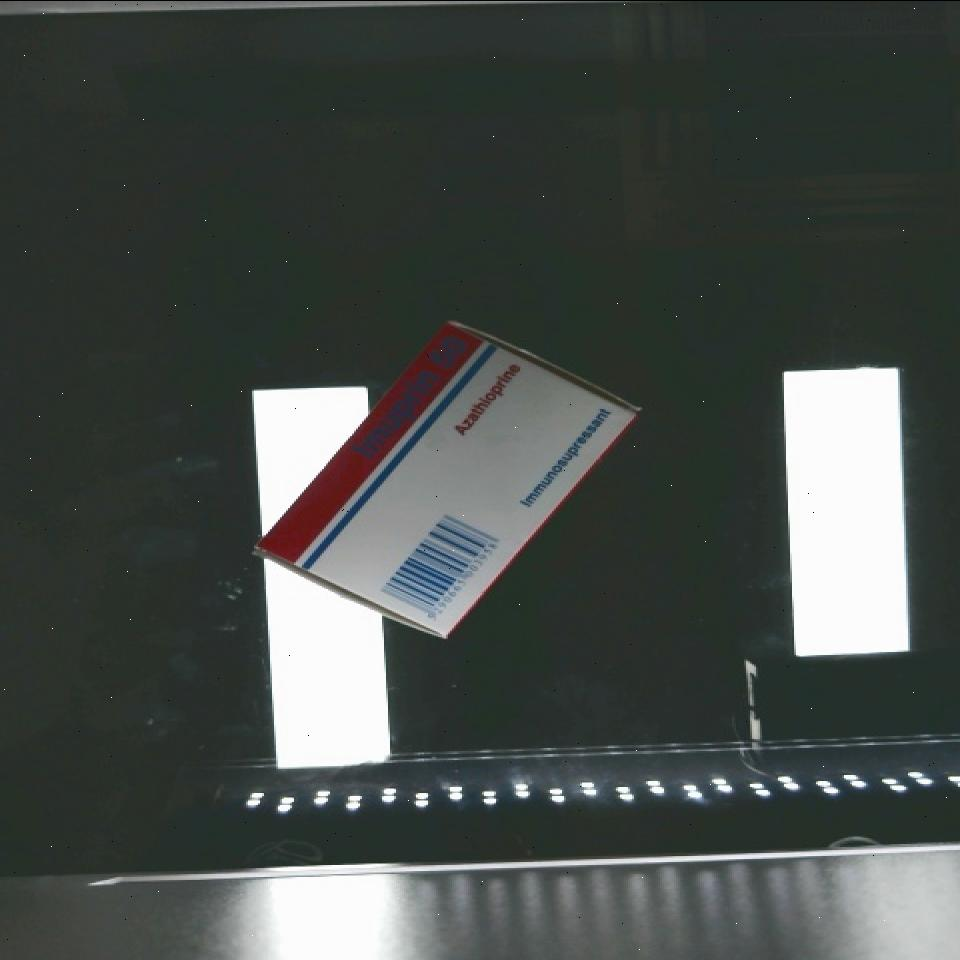medicine_box: (256, 281, 632, 677)
medicine_label_obb: (331, 309, 494, 483)
